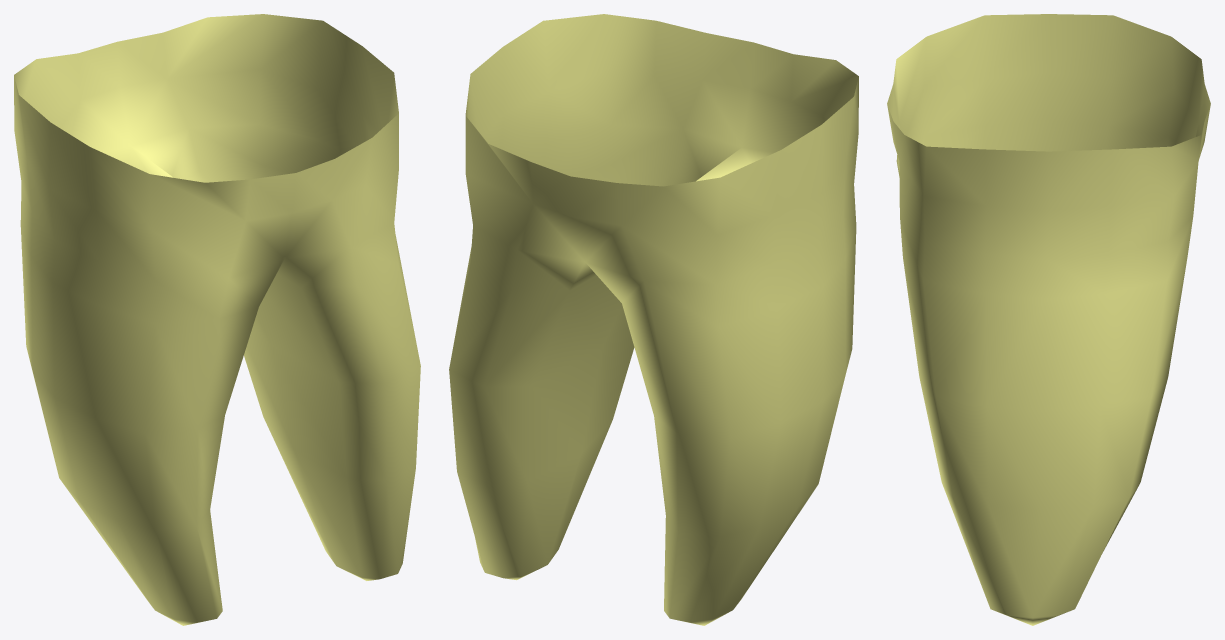
The model's file is D36R_Raiz.obj.
The picture shows the model from 3 angles, left to right: view 1: azimuth 30°, elevation 25°; view 2: azimuth 150°, elevation 25°; view 3: azimuth 270°, elevation 25°; orthographic projection. The views are drawn at different scales.
Visible parts, largest first — view 1: D36R_Raiz; view 2: D36R_Raiz; view 3: D36R_Raiz.
Part boxes in pixels (x1=…): D36R_Raiz: x1=14, y1=14, x2=420, y2=625; D36R_Raiz: x1=449, y1=14, x2=858, y2=625; D36R_Raiz: x1=887, y1=14, x2=1210, y2=625.
Bounding box in the file's own units: 9.87 × 14.57 × 8.97.
